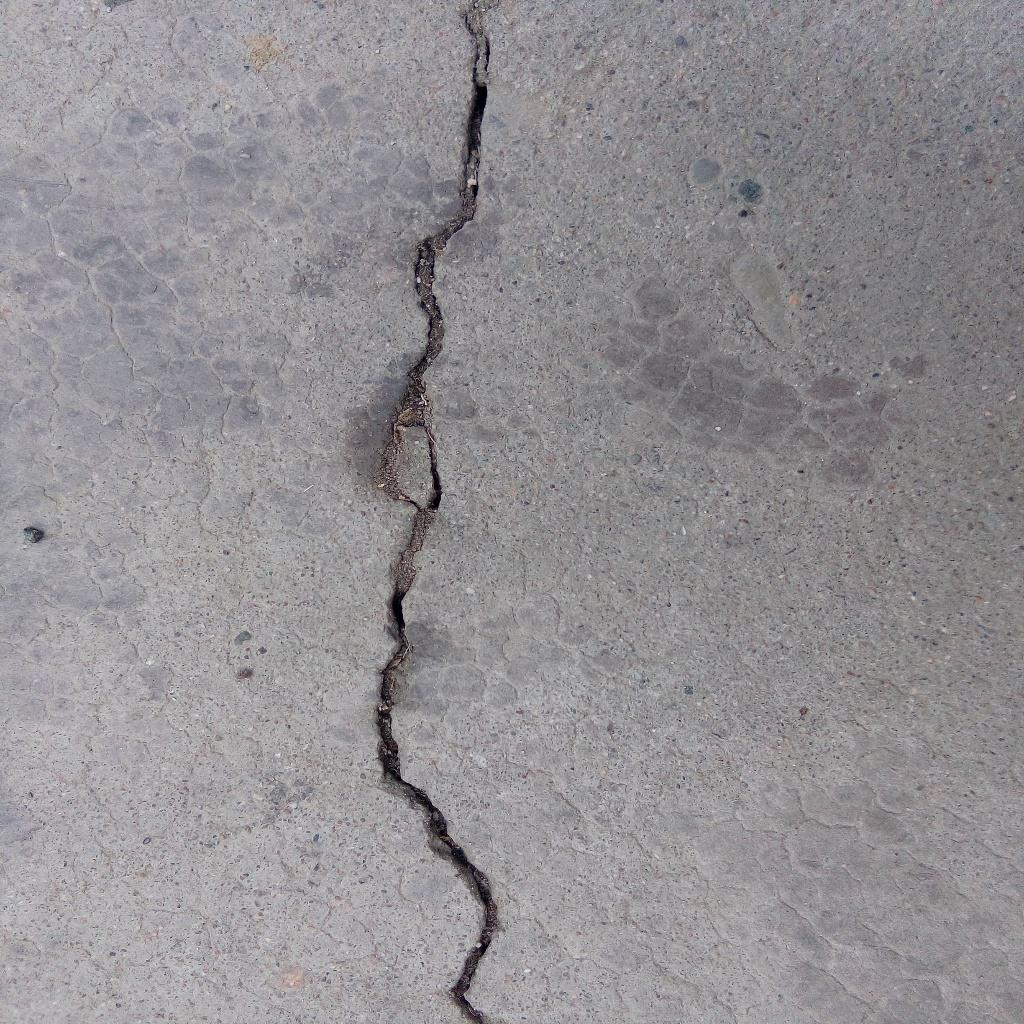Crack: (373, 1, 500, 1024)
